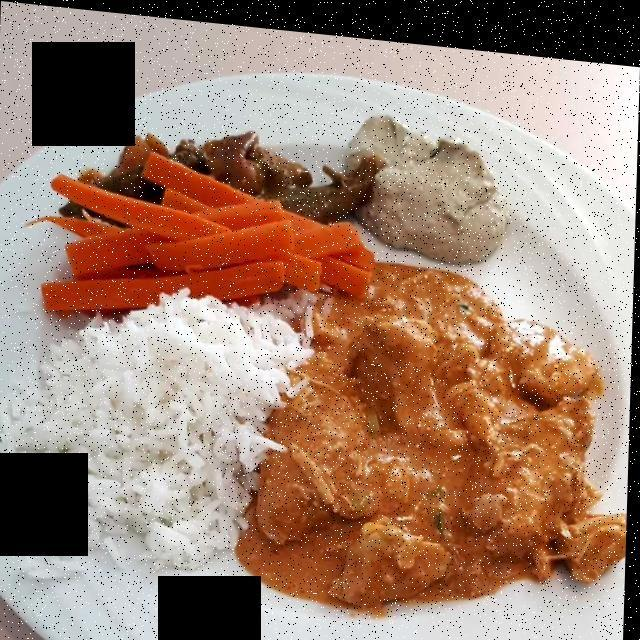carrot: (22, 142, 359, 318)
chicken-curry: (236, 243, 613, 607)
mousse: (347, 94, 515, 249)
rice: (8, 295, 311, 564)
